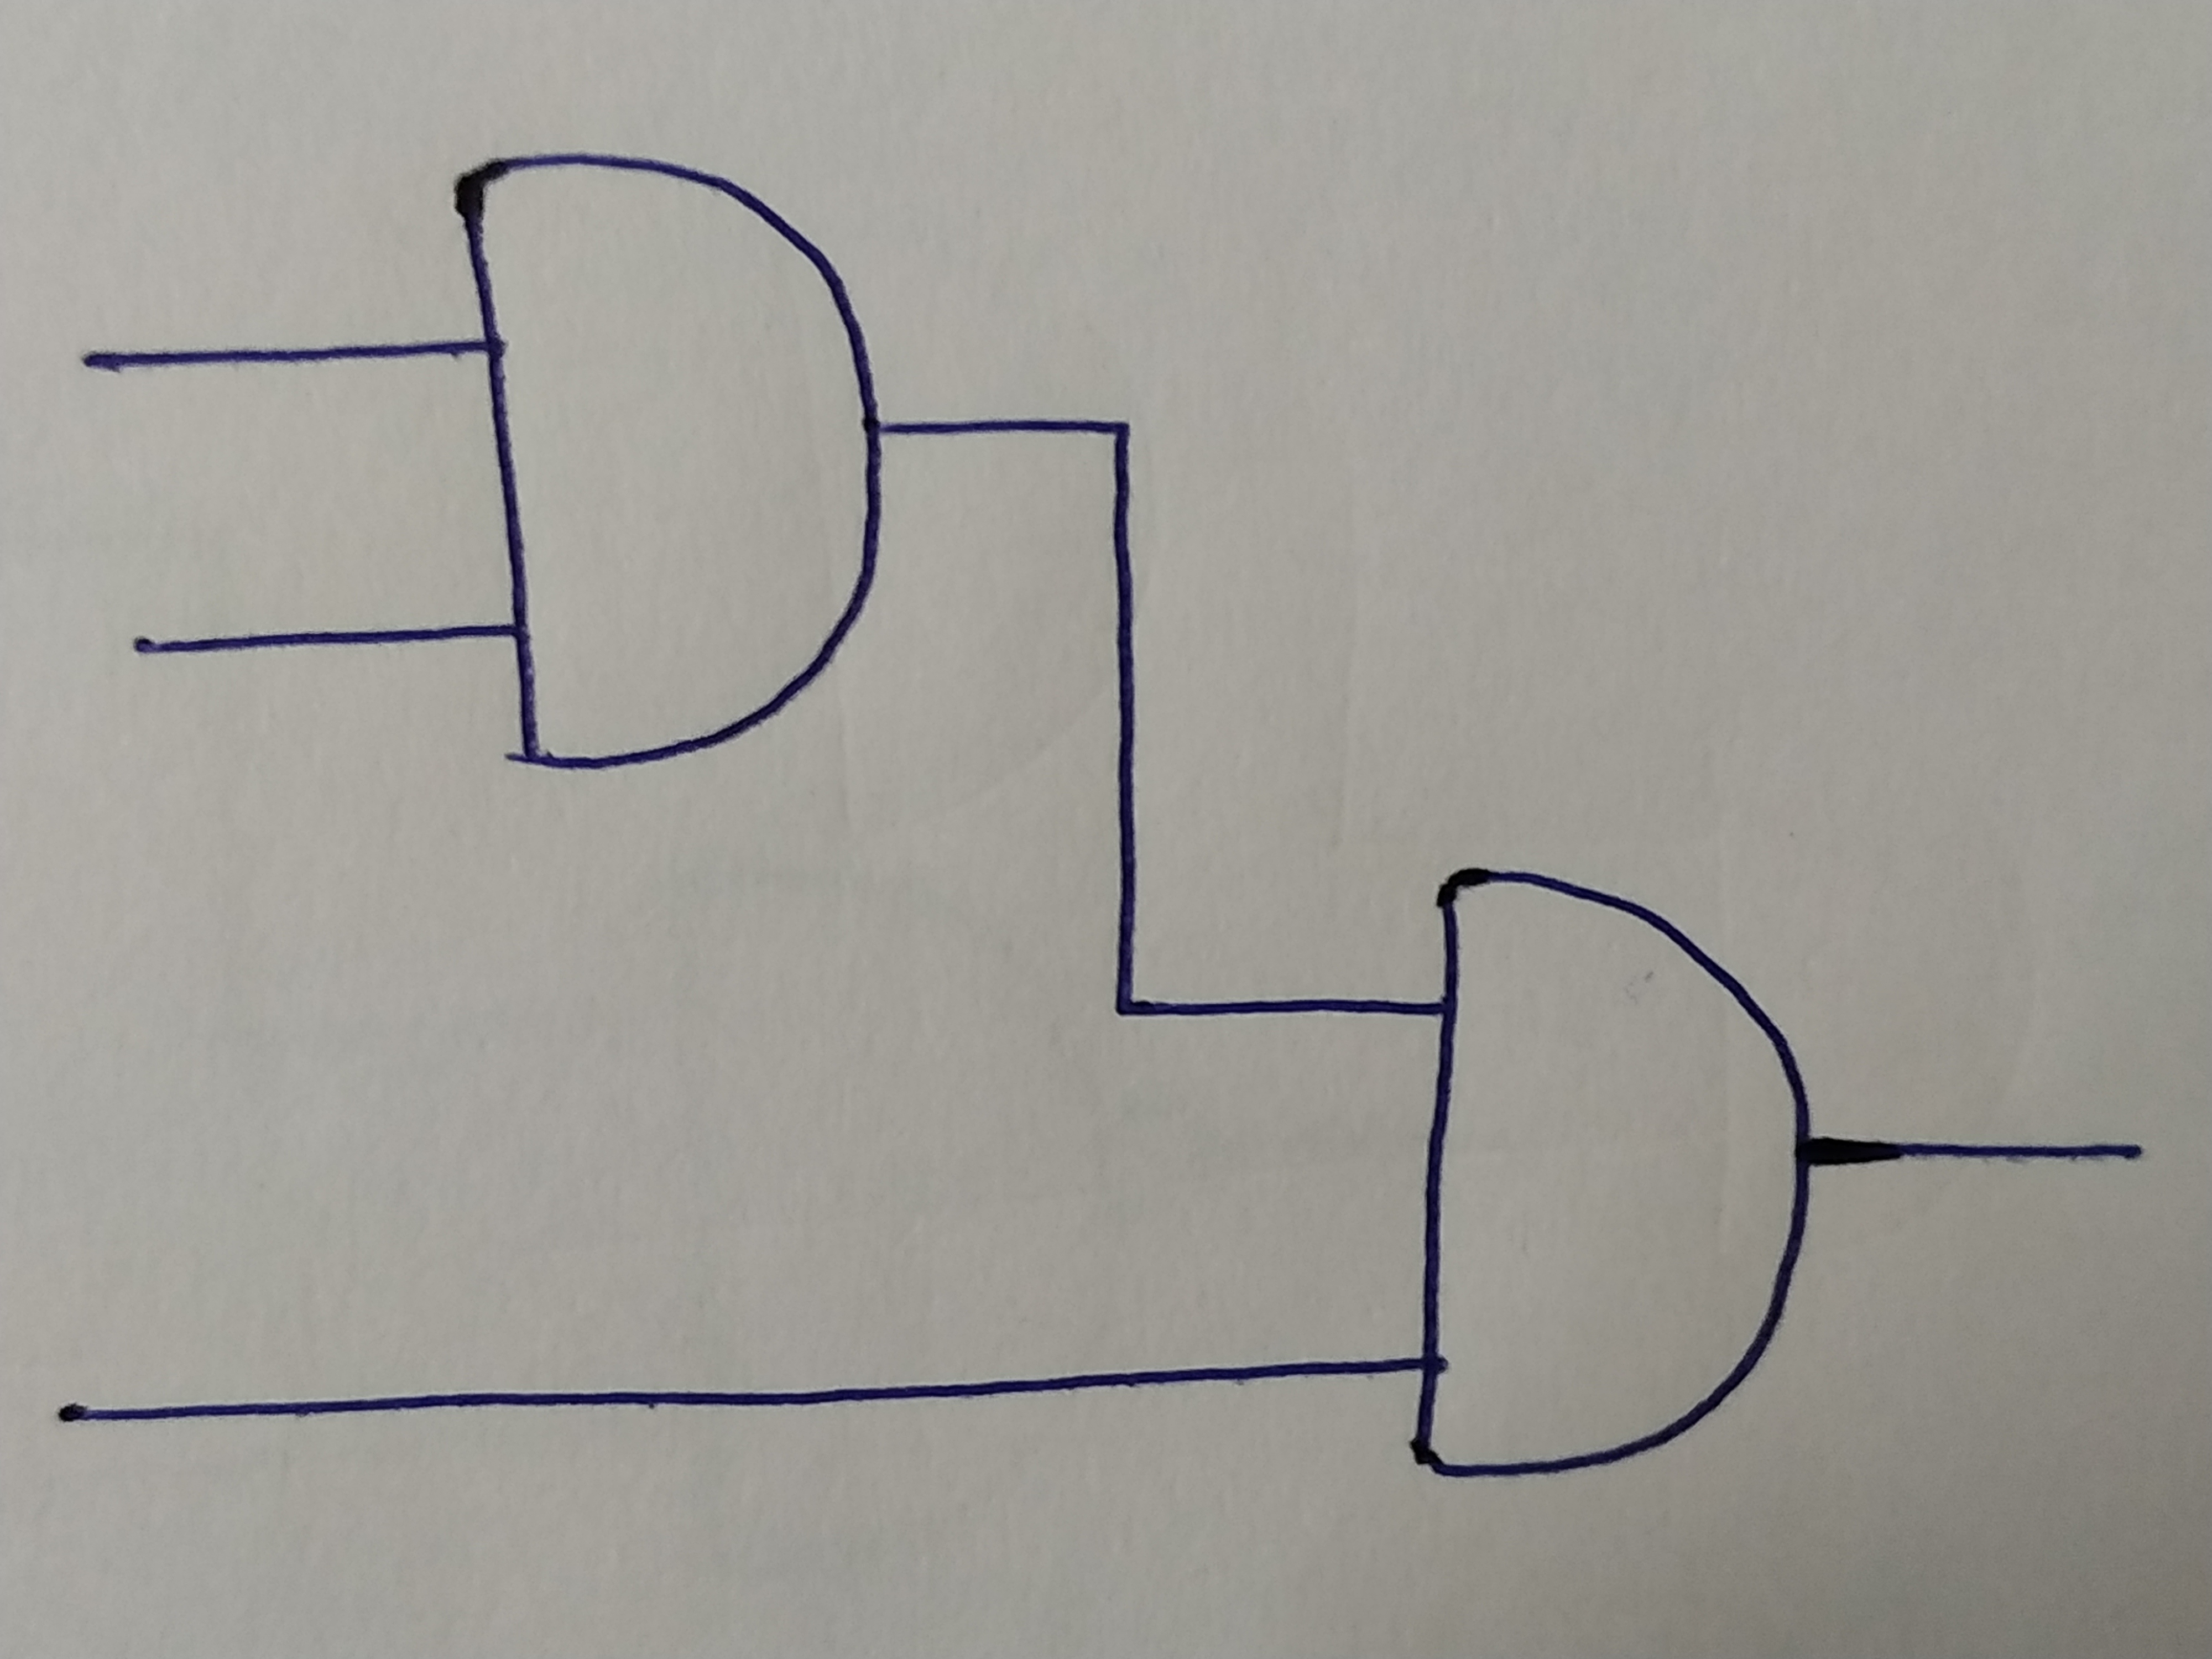and: (449, 155, 887, 775), (1414, 864, 1818, 1478)
